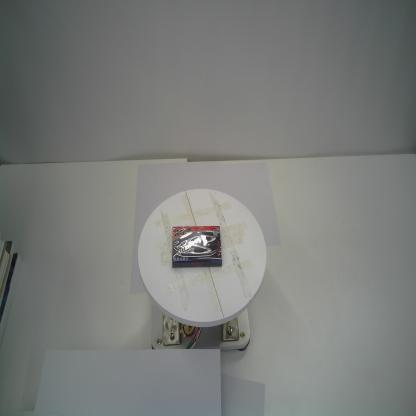Gum: (172, 226, 222, 268)
